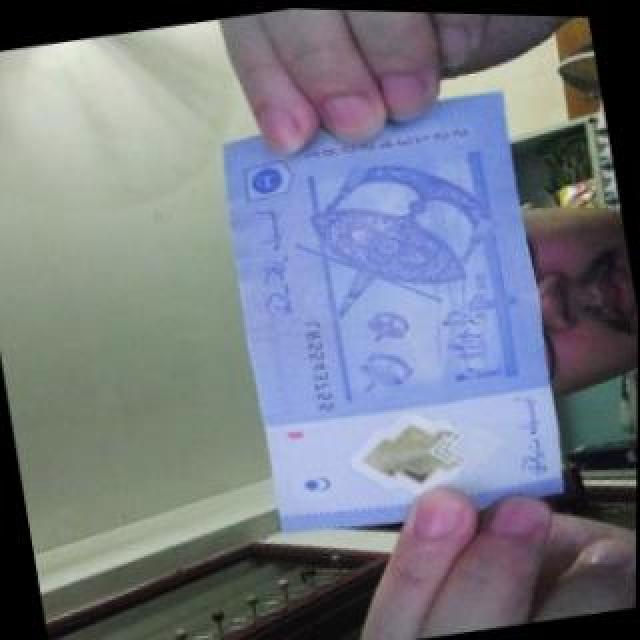1 Ringgit: (206, 76, 579, 555)
